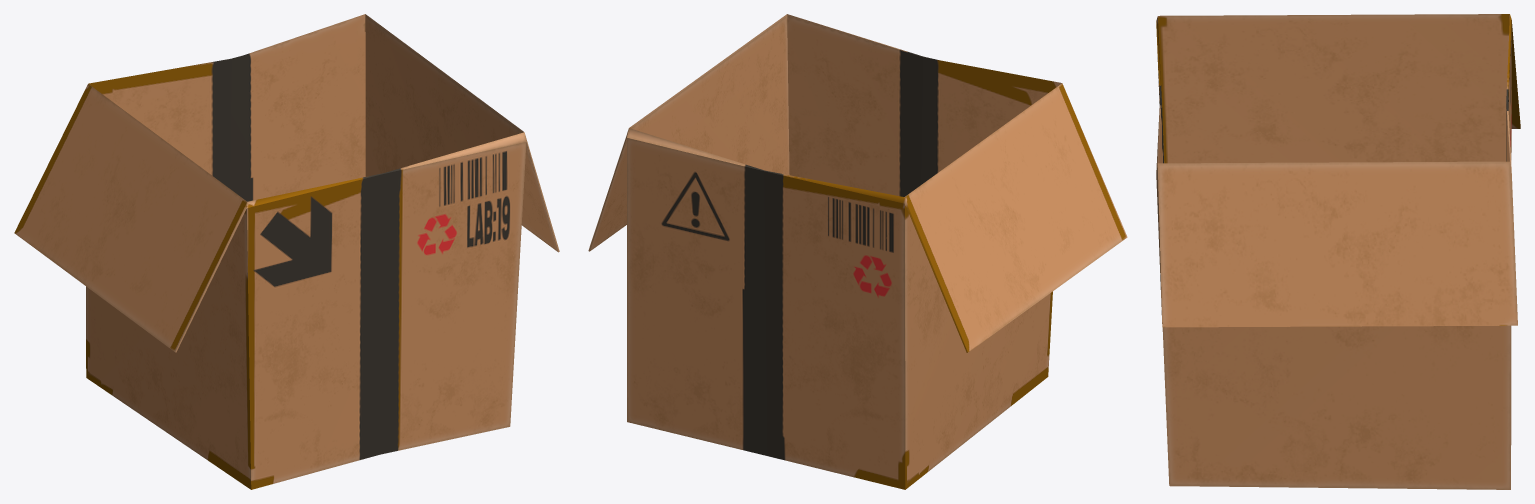
3 views of the same model, side by side, from view 1: azimuth 30°, elevation 25°; view 2: azimuth 150°, elevation 25°; view 3: azimuth 270°, elevation 25° (orthographic). The views are drawn at different scales.
Parts seen in each view (by area): view 1: 纸箱子_002; view 2: 纸箱子_002; view 3: 纸箱子_002.
Part boxes in pixels (x1,y1,x2,y2): 纸箱子_002: [14, 14, 559, 489]; 纸箱子_002: [588, 14, 1127, 489]; 纸箱子_002: [1156, 14, 1520, 489].
Bounding box in the file's own units: 120 × 89.33 × 89.57.
Materials: 1 (1 with a texture image).
